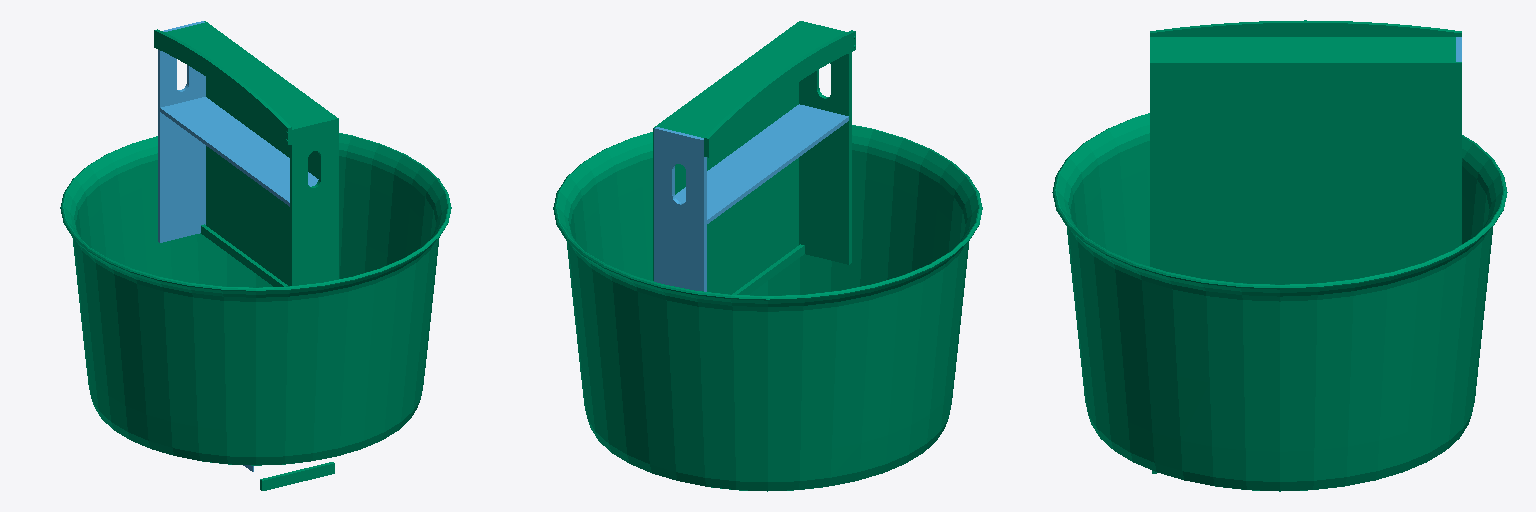
robot.urdf — partnet_f8439f99-4d73-47ff-bbb9-e38f54922933:
<?xml version="1.0" ?>
<robot name="partnet_f8439f99-4d73-47ff-bbb9-e38f54922933">
	<mujoco>
		<compiler meshdir="textured_objs" balanceinertia="true" discardvisual="false"/>
	</mujoco>
	<link name="base"/>
	<link name="link_0">
		<visual name="lid-1">
			<origin xyz="0 0 0"/>
			<geometry>
				<mesh filename="textured_objs/original-2.obj"/>
			</geometry>
		</visual>
		<visual name="lid-1">
			<origin xyz="0 0 0"/>
			<geometry>
				<mesh filename="textured_objs/original-23.obj"/>
			</geometry>
		</visual>
		<visual name="lid-1">
			<origin xyz="0 0 0"/>
			<geometry>
				<mesh filename="textured_objs/original-16.obj"/>
			</geometry>
		</visual>
		<visual name="lid-1">
			<origin xyz="0 0 0"/>
			<geometry>
				<mesh filename="textured_objs/original-8.obj"/>
			</geometry>
		</visual>
		<visual name="lid-1">
			<origin xyz="0 0 0"/>
			<geometry>
				<mesh filename="textured_objs/original-15.obj"/>
			</geometry>
		</visual>
		<visual name="lid-1">
			<origin xyz="0 0 0"/>
			<geometry>
				<mesh filename="textured_objs/original-7.obj"/>
			</geometry>
		</visual>
		<visual name="lid-1">
			<origin xyz="0 0 0"/>
			<geometry>
				<mesh filename="textured_objs/original-24.obj"/>
			</geometry>
		</visual>
		<visual name="lid-1">
			<origin xyz="0 0 0"/>
			<geometry>
				<mesh filename="textured_objs/original-21.obj"/>
			</geometry>
		</visual>
		<collision>
			<origin xyz="0 0 0"/>
			<geometry>
				<mesh filename="textured_objs/original-2.obj"/>
			</geometry>
		</collision>
		<collision>
			<origin xyz="0 0 0"/>
			<geometry>
				<mesh filename="textured_objs/original-23.obj"/>
			</geometry>
		</collision>
		<collision>
			<origin xyz="0 0 0"/>
			<geometry>
				<mesh filename="textured_objs/original-16.obj"/>
			</geometry>
		</collision>
		<collision>
			<origin xyz="0 0 0"/>
			<geometry>
				<mesh filename="textured_objs/original-8.obj"/>
			</geometry>
		</collision>
		<collision>
			<origin xyz="0 0 0"/>
			<geometry>
				<mesh filename="textured_objs/original-15.obj"/>
			</geometry>
		</collision>
		<collision>
			<origin xyz="0 0 0"/>
			<geometry>
				<mesh filename="textured_objs/original-7.obj"/>
			</geometry>
		</collision>
		<collision>
			<origin xyz="0 0 0"/>
			<geometry>
				<mesh filename="textured_objs/original-24.obj"/>
			</geometry>
		</collision>
		<collision>
			<origin xyz="0 0 0"/>
			<geometry>
				<mesh filename="textured_objs/original-21.obj"/>
			</geometry>
		</collision>
	</link>
	<joint name="joint_0" type="prismatic">
		<origin xyz="0 0 0"/>
		<axis xyz="0 1 0"/>
		<child link="link_0"/>
		<parent link="link_1"/>
		<limit lower="0" upper="0.02"/>
	</joint>
	<link name="link_1">
		<visual name="base_body-2">
			<origin xyz="0 0 0"/>
			<geometry>
				<mesh filename="textured_objs/original-4.obj"/>
			</geometry>
		</visual>
		<visual name="base_body-2">
			<origin xyz="0 0 0"/>
			<geometry>
				<mesh filename="textured_objs/original-3.obj"/>
			</geometry>
		</visual>
		<visual name="base_body-2">
			<origin xyz="0 0 0"/>
			<geometry>
				<mesh filename="textured_objs/original-13.obj"/>
			</geometry>
		</visual>
		<visual name="base_body-2">
			<origin xyz="0 0 0"/>
			<geometry>
				<mesh filename="textured_objs/original-9.obj"/>
			</geometry>
		</visual>
		<visual name="base_body-2">
			<origin xyz="0 0 0"/>
			<geometry>
				<mesh filename="textured_objs/original-5.obj"/>
			</geometry>
		</visual>
		<visual name="base_body-2">
			<origin xyz="0 0 0"/>
			<geometry>
				<mesh filename="textured_objs/original-6.obj"/>
			</geometry>
		</visual>
		<visual name="base_body-2">
			<origin xyz="0 0 0"/>
			<geometry>
				<mesh filename="textured_objs/original-17.obj"/>
			</geometry>
		</visual>
		<visual name="base_body-2">
			<origin xyz="0 0 0"/>
			<geometry>
				<mesh filename="textured_objs/original-12.obj"/>
			</geometry>
		</visual>
		<visual name="base_body-2">
			<origin xyz="0 0 0"/>
			<geometry>
				<mesh filename="textured_objs/original-20.obj"/>
			</geometry>
		</visual>
		<visual name="base_body-2">
			<origin xyz="0 0 0"/>
			<geometry>
				<mesh filename="textured_objs/original-1.obj"/>
			</geometry>
		</visual>
		<visual name="base_body-2">
			<origin xyz="0 0 0"/>
			<geometry>
				<mesh filename="textured_objs/original-10.obj"/>
			</geometry>
		</visual>
		<visual name="base_body-2">
			<origin xyz="0 0 0"/>
			<geometry>
				<mesh filename="textured_objs/original-19.obj"/>
			</geometry>
		</visual>
		<collision>
			<origin xyz="0 0 0"/>
			<geometry>
				<mesh filename="textured_objs/original-4.obj"/>
			</geometry>
		</collision>
		<collision>
			<origin xyz="0 0 0"/>
			<geometry>
				<mesh filename="textured_objs/original-3.obj"/>
			</geometry>
		</collision>
		<collision>
			<origin xyz="0 0 0"/>
			<geometry>
				<mesh filename="textured_objs/original-13.obj"/>
			</geometry>
		</collision>
		<collision>
			<origin xyz="0 0 0"/>
			<geometry>
				<mesh filename="textured_objs/original-9.obj"/>
			</geometry>
		</collision>
		<collision>
			<origin xyz="0 0 0"/>
			<geometry>
				<mesh filename="textured_objs/original-5.obj"/>
			</geometry>
		</collision>
		<collision>
			<origin xyz="0 0 0"/>
			<geometry>
				<mesh filename="textured_objs/original-6.obj"/>
			</geometry>
		</collision>
		<collision>
			<origin xyz="0 0 0"/>
			<geometry>
				<mesh filename="textured_objs/original-17.obj"/>
			</geometry>
		</collision>
		<collision>
			<origin xyz="0 0 0"/>
			<geometry>
				<mesh filename="textured_objs/original-12.obj"/>
			</geometry>
		</collision>
		<collision>
			<origin xyz="0 0 0"/>
			<geometry>
				<mesh filename="textured_objs/original-20.obj"/>
			</geometry>
		</collision>
		<collision>
			<origin xyz="0 0 0"/>
			<geometry>
				<mesh filename="textured_objs/original-1.obj"/>
			</geometry>
		</collision>
		<collision>
			<origin xyz="0 0 0"/>
			<geometry>
				<mesh filename="textured_objs/original-10.obj"/>
			</geometry>
		</collision>
		<collision>
			<origin xyz="0 0 0"/>
			<geometry>
				<mesh filename="textured_objs/original-19.obj"/>
			</geometry>
		</collision>
	</link>
	<joint name="joint_1" type="fixed">
		<origin rpy="1.570796326794897 0 -1.570796326794897" xyz="0 0 0"/>
		<child link="link_1"/>
		<parent link="base"/>
	</joint>
</robot>

--- Render facts (derived) ---
The picture shows the robot from 3 angles, left to right: view 1: azimuth 30°, elevation 25°; view 2: azimuth 150°, elevation 25°; view 3: azimuth 270°, elevation 25°; orthographic projection.
Model partnet_f8439f99-4d73-47ff-bbb9-e38f54922933 with 3 links and 2 joints (1 prismatic, 1 fixed), rooted at base, posed all joints at 0.
Links seen in each view (by area): view 1: link_1, link_0; view 2: link_1, link_0; view 3: link_1.
Boxes of the visible links, x1,y1,x2,y2 form: link_1: (60,21,451,490); link_0: (158,21,318,471); link_1: (553,21,982,491); link_0: (654,104,848,291); link_1: (1052,20,1507,491).
Size in the robot's own frame: 1.53 by 1.53 by 1.58 metres.
16 mesh visuals loaded from 20 distinct referenced files (16 OBJ); not drawn: 4 (reference not matched to a file when rendering).